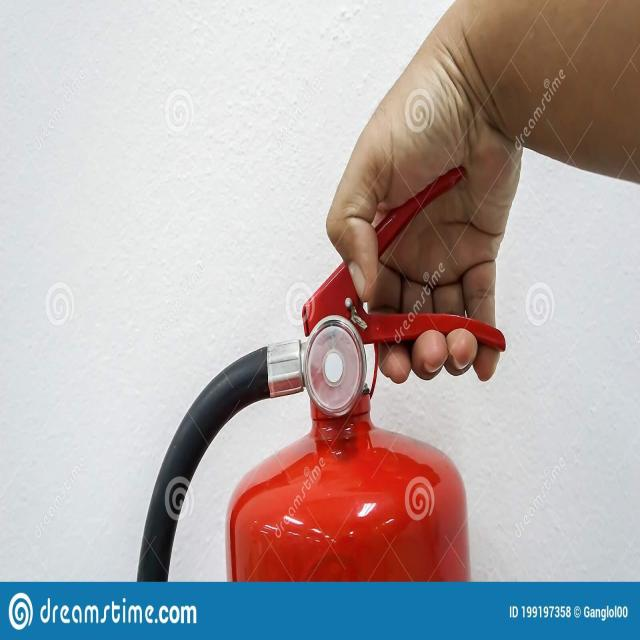fire_extinguisher: (127, 152, 506, 584)
